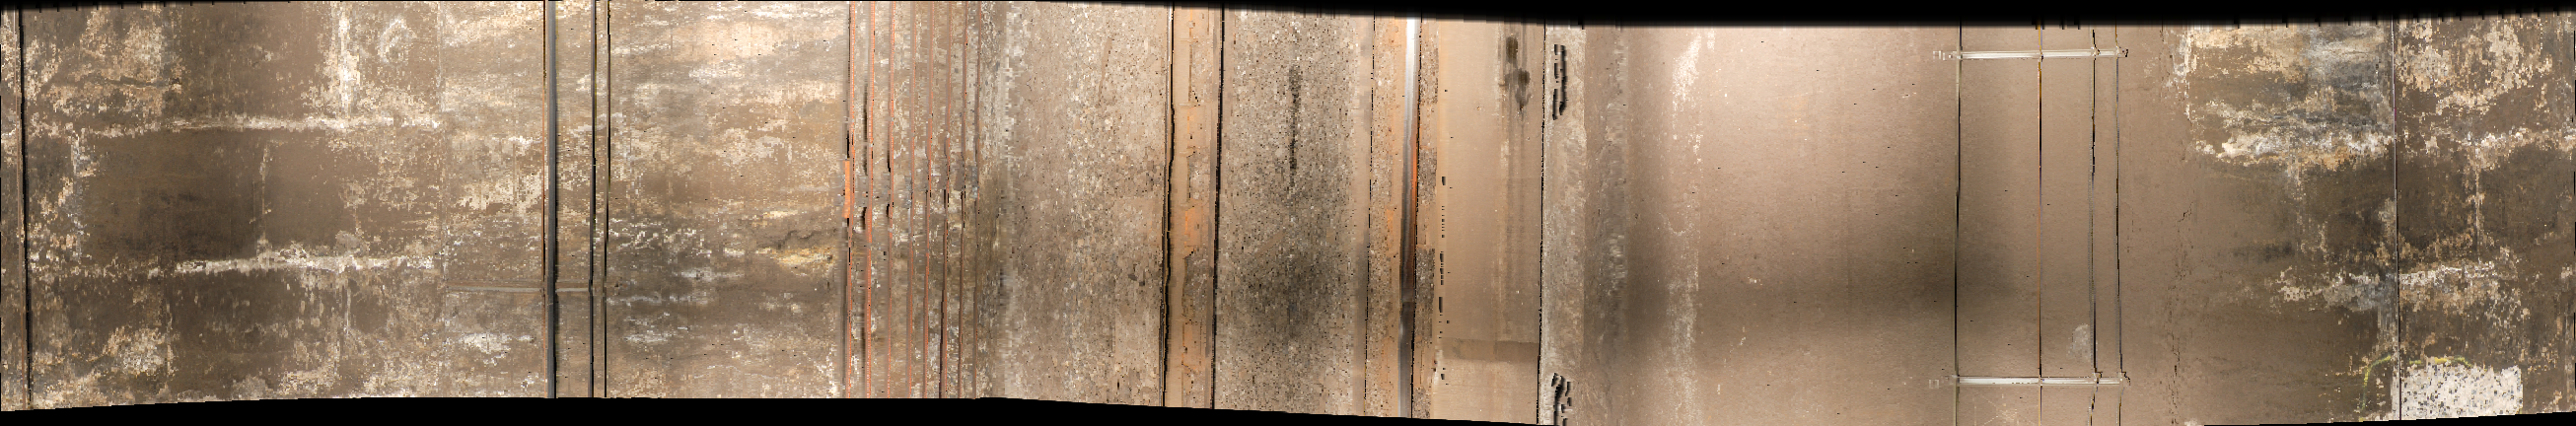pipes: (838, 2, 999, 426), (2027, 16, 2126, 426), (532, 2, 616, 424), (1944, 21, 1970, 426)
tracks: (1161, 5, 1544, 426)
